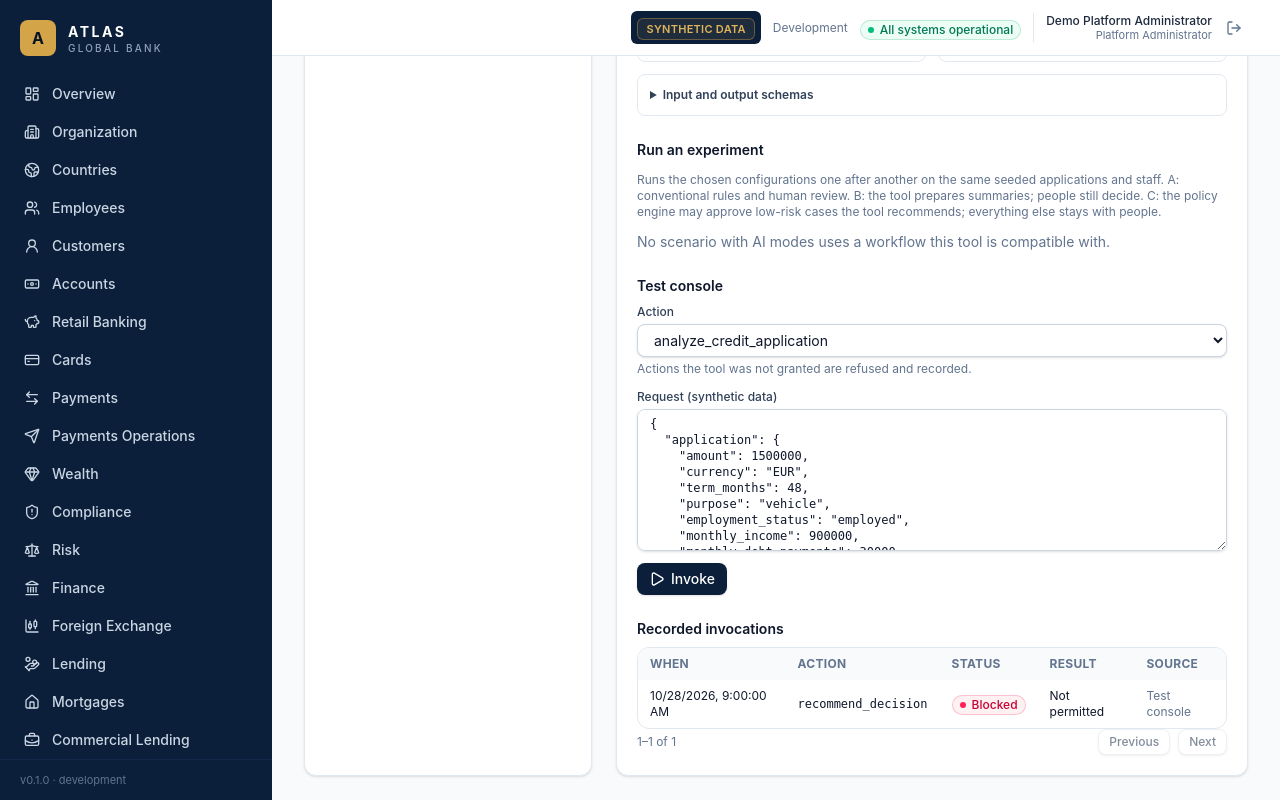
Test: AI Innovation Lab › offers the underwriting assistant a referred loan application
(page scrolled)
Expected: the dropdown labelled "Action" shows "analyze_credit_application", 637,324 -> 1227,357
Click the button "Invoke": (682, 579) 637,563 -> 727,595
(page scrolled)
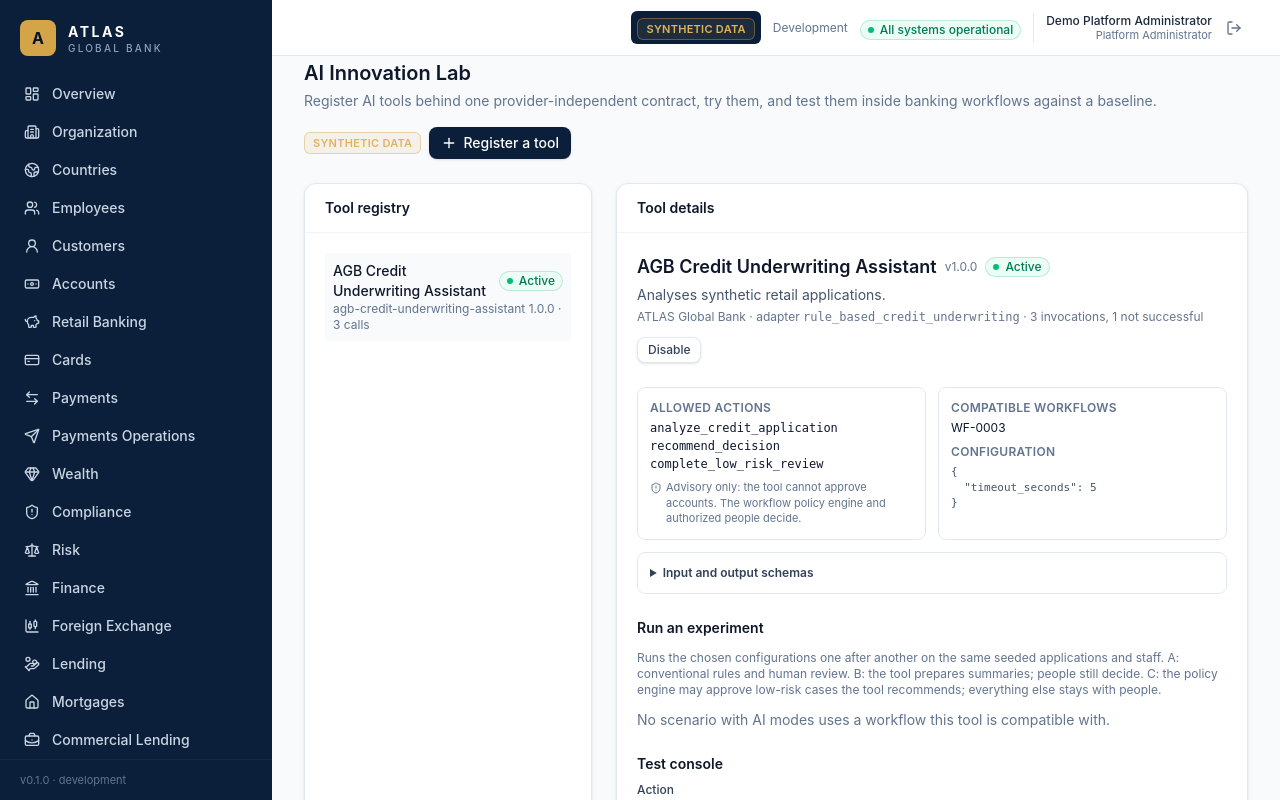
Expected: the list item "analyze_credit_application" is shown, 650,421 -> 838,435
